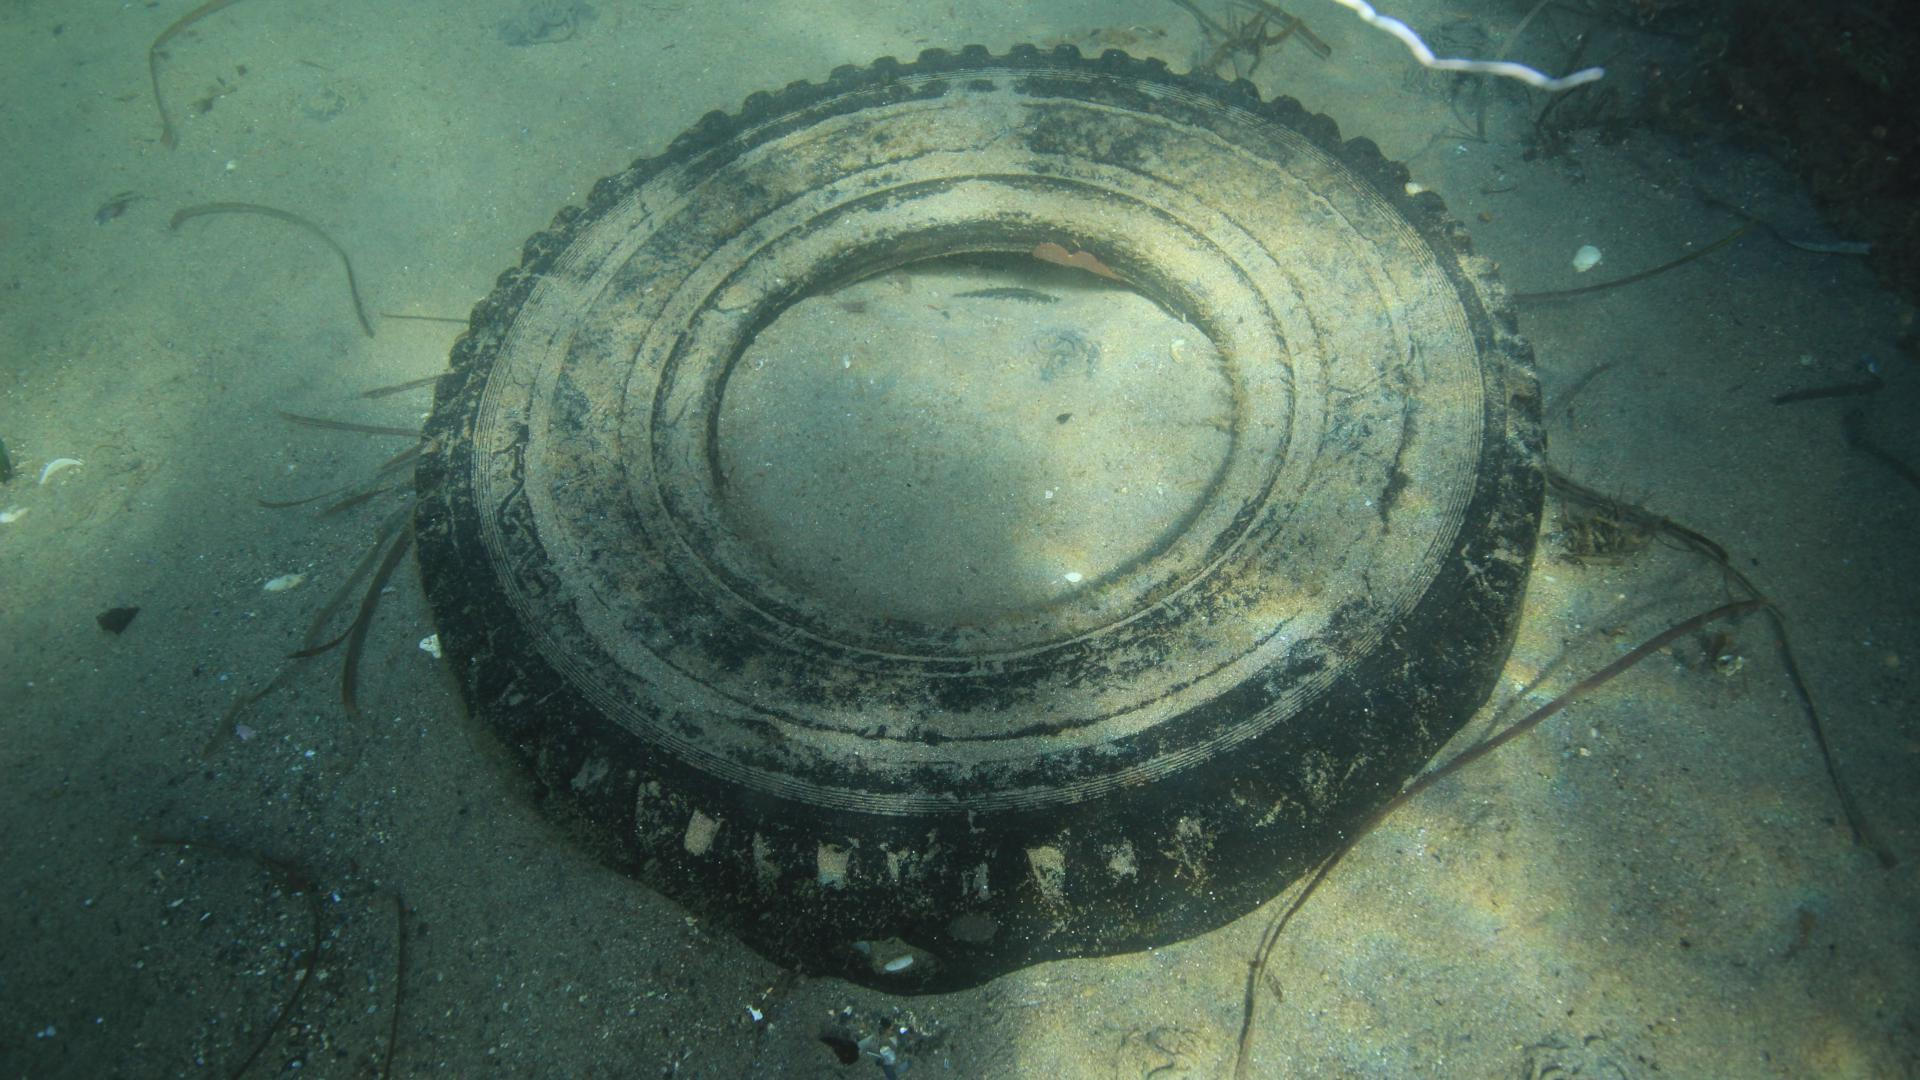tire: (409, 40, 1545, 993)
